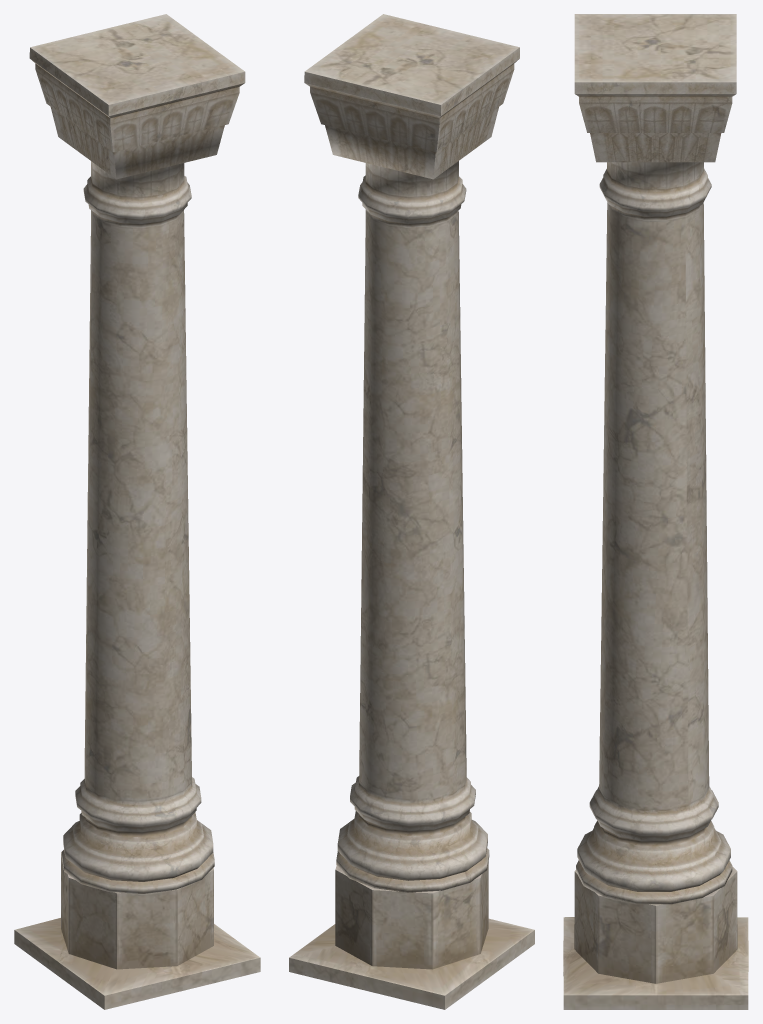
The model's file is column-marble.glb.
3 views of the same model, side by side, from view 1: azimuth 30°, elevation 25°; view 2: azimuth 150°, elevation 25°; view 3: azimuth 270°, elevation 25° (orthographic). The views are drawn at different scales.
Parts seen in each view (by area): view 1: column-marble_0; view 2: column-marble_0; view 3: column-marble_0.
Part boxes in pixels (left/top/right/bottom): column-marble_0: left=14, top=14, right=260, bottom=1009; column-marble_0: left=289, top=14, right=534, bottom=1009; column-marble_0: left=563, top=14, right=748, bottom=1009.
Bounding box in the file's own units: 0.8143 × 4.48 × 0.8143.
1 material, 1 textured.
